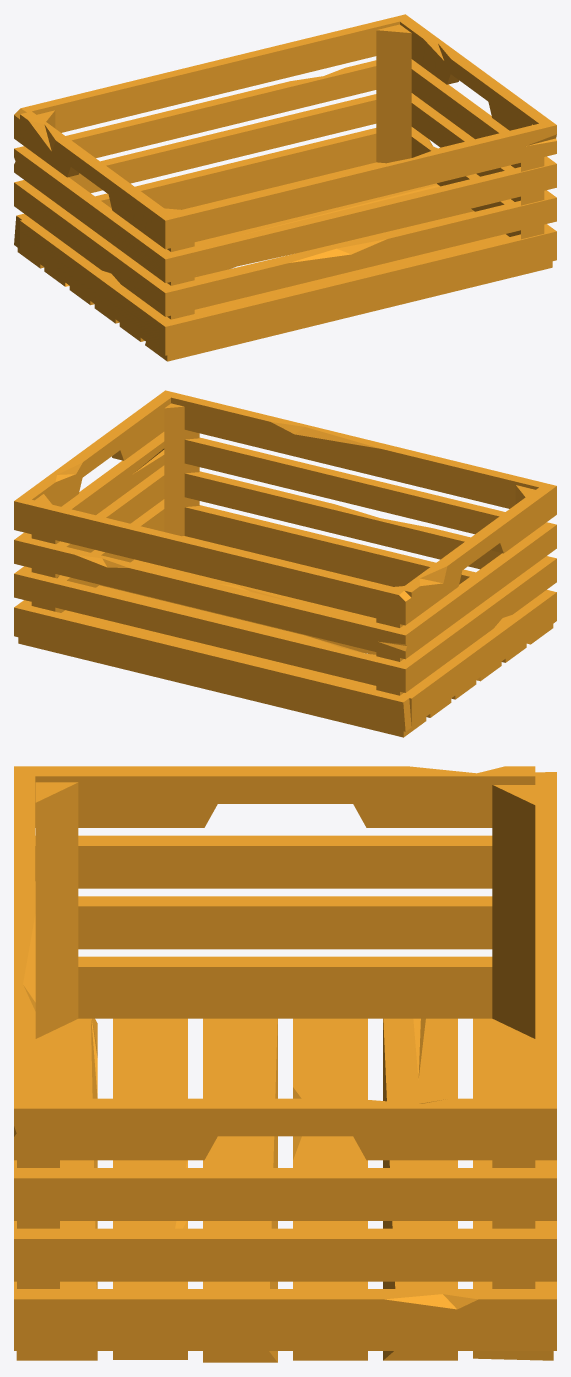
File: SM_Crate_Wood_Medium.fbx
The picture shows the model from 3 angles, top to bottom: view 1: azimuth 30°, elevation 25°; view 2: azimuth 150°, elevation 25°; view 3: azimuth 270°, elevation 25°; orthographic projection. The views are drawn at different scales.
Parts seen in each view (by area): view 1: crate-wood-medium; view 2: crate-wood-medium; view 3: crate-wood-medium.
Part boxes in pixels (bbox=[...]): crate-wood-medium: bbox=[14, 14, 556, 361]; crate-wood-medium: bbox=[14, 390, 556, 737]; crate-wood-medium: bbox=[14, 766, 556, 1362].
Size of the model in its own units: 0.6067 by 0.2106 by 0.4063.
